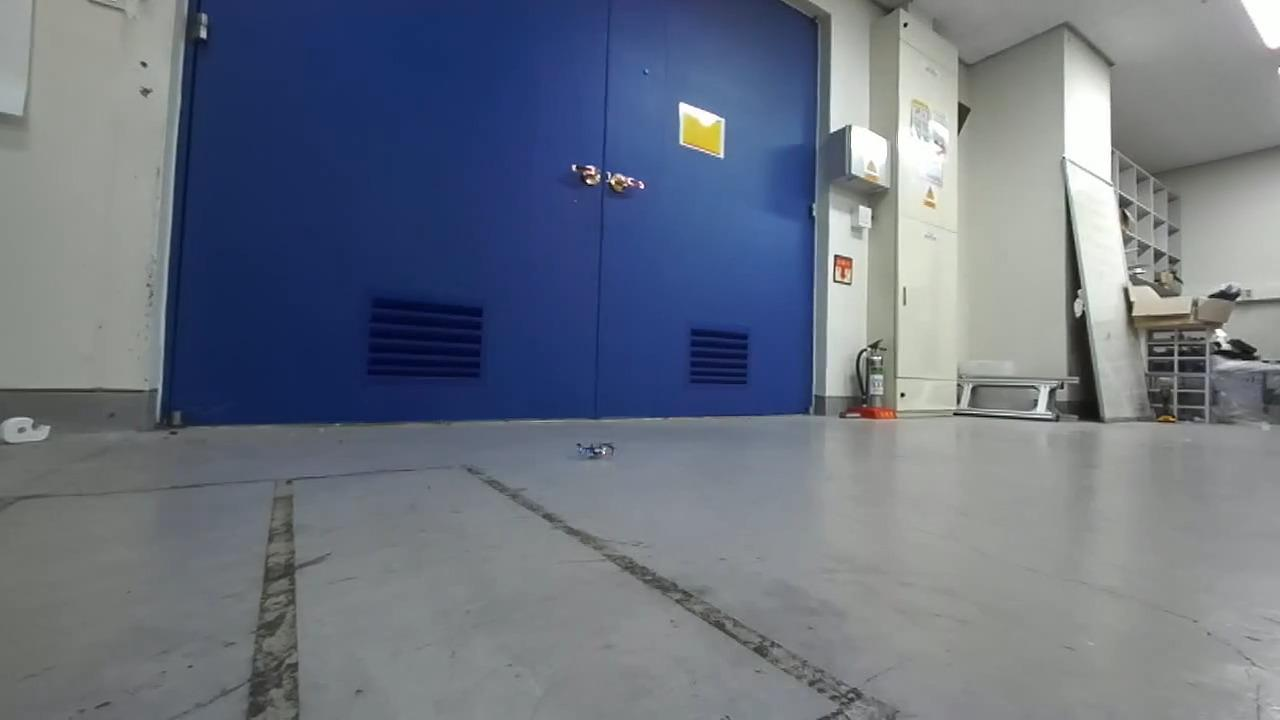crazyflie: (567, 435, 622, 465)
